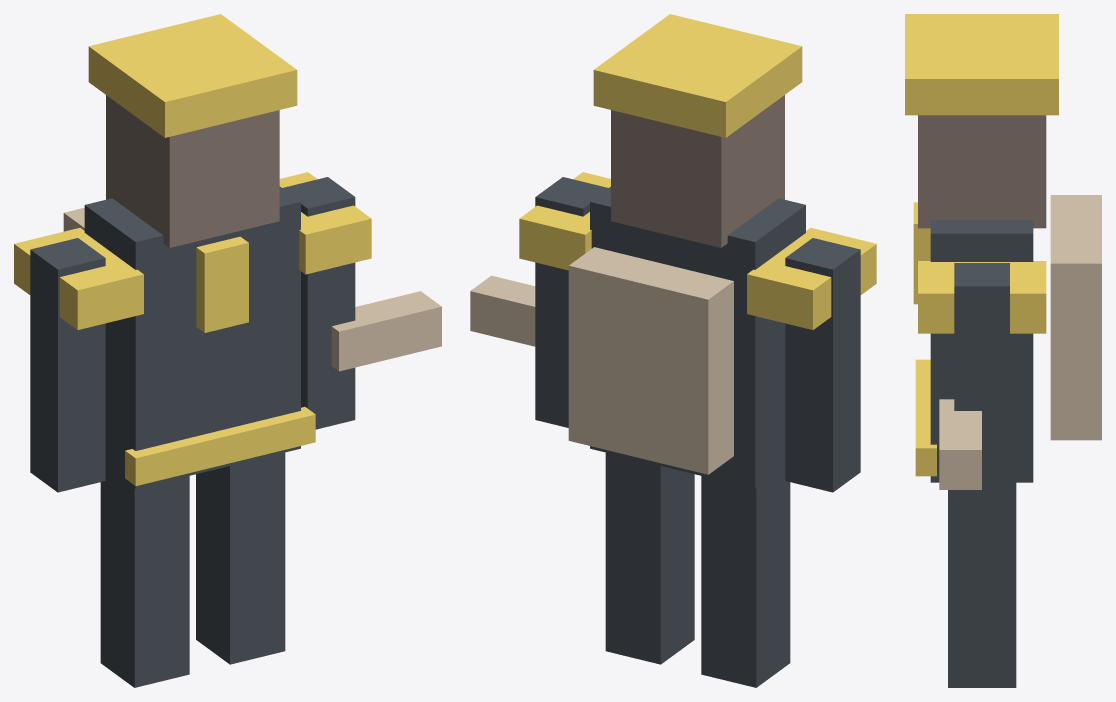
File: 14_orin_whispercoil_operator_of_main.glb
The picture shows the model from 3 angles, left to right: view 1: azimuth 30°, elevation 25°; view 2: azimuth 150°, elevation 25°; view 3: azimuth 270°, elevation 25°; orthographic projection.
Parts seen in each view (by area): view 1: Orin Whispercoil, Operator of Main; view 2: Orin Whispercoil, Operator of Main; view 3: Orin Whispercoil, Operator of Main.
Part boxes in pixels (box(x1,y1,x2,y2)): Orin Whispercoil, Operator of Main: box(14, 14, 441, 687); Orin Whispercoil, Operator of Main: box(470, 14, 876, 687); Orin Whispercoil, Operator of Main: box(905, 14, 1101, 687).
Bounding box in the file's own units: 1.01 × 1.54 × 0.4542.
